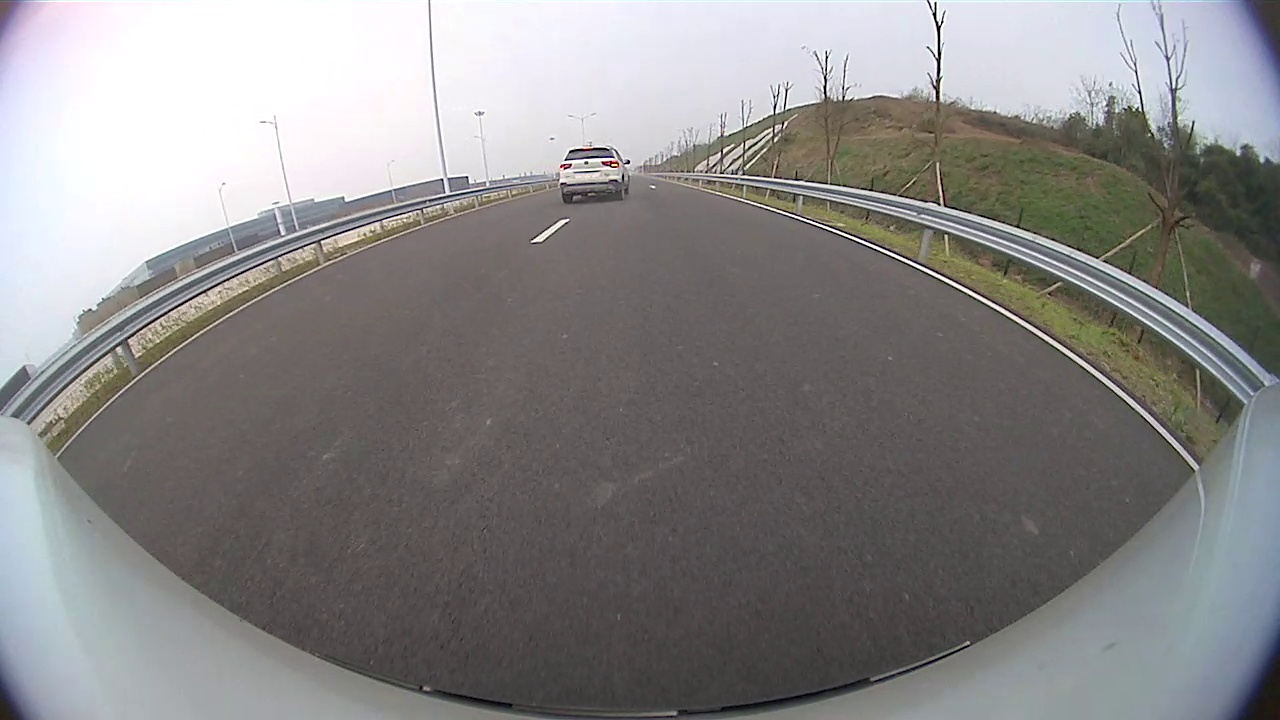car: (557, 143, 628, 207)
